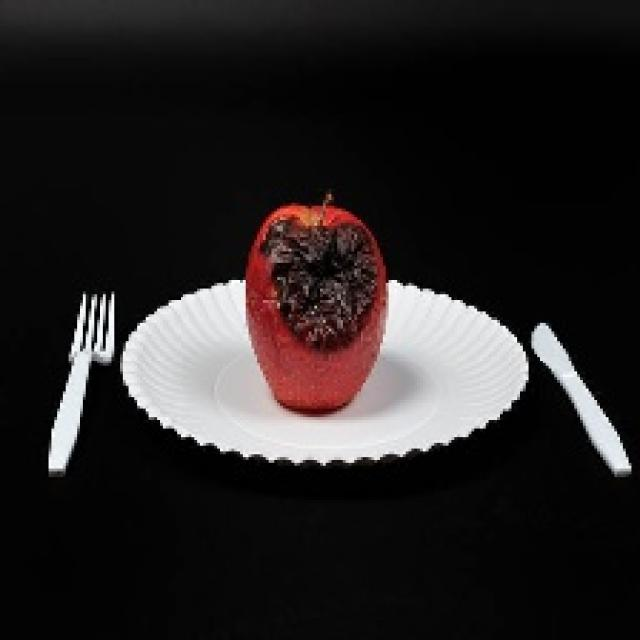rotten_apple: (253, 209, 382, 409)
